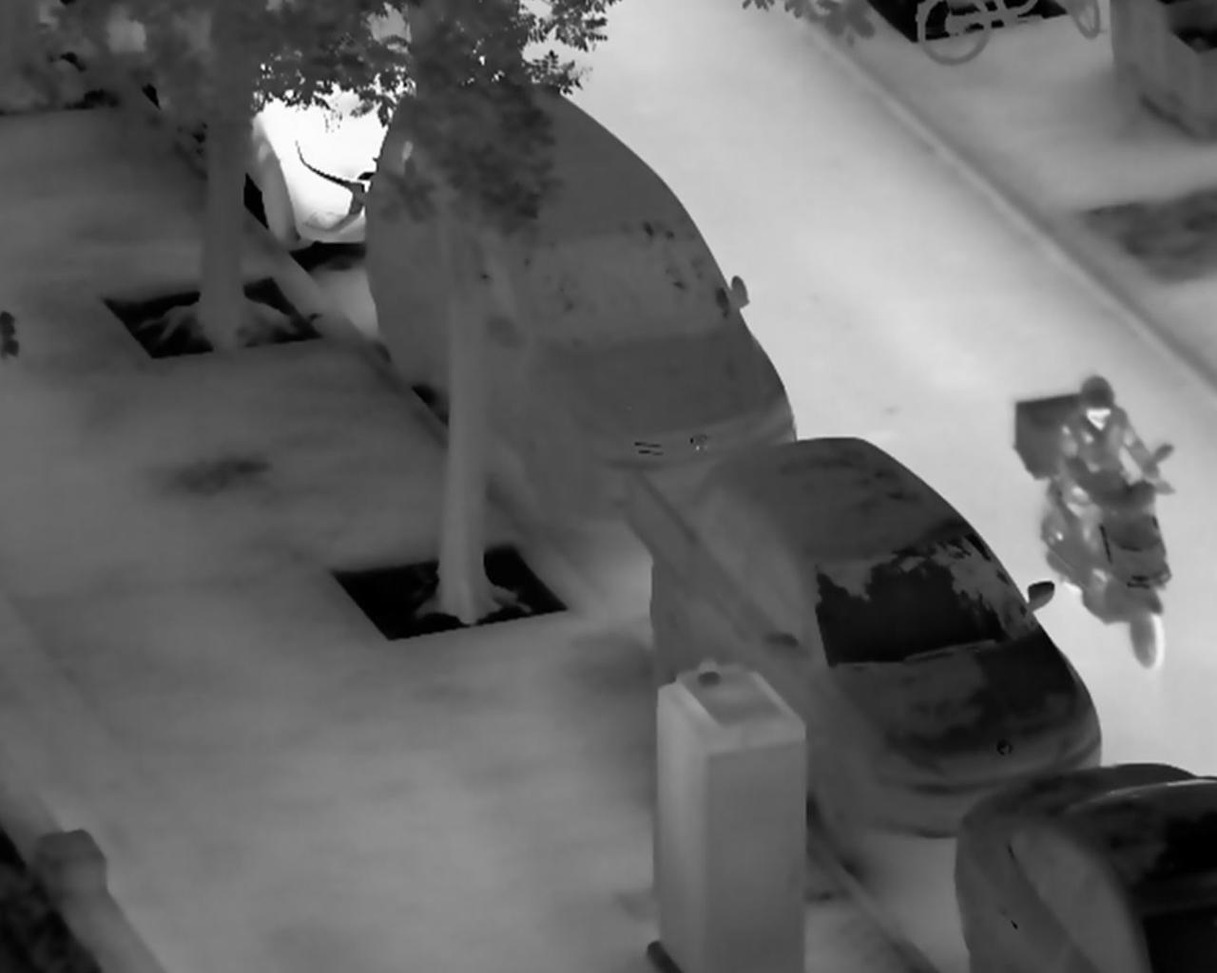person: (1053, 371, 1175, 590)
